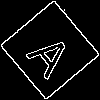A: (25, 25, 84, 82)
